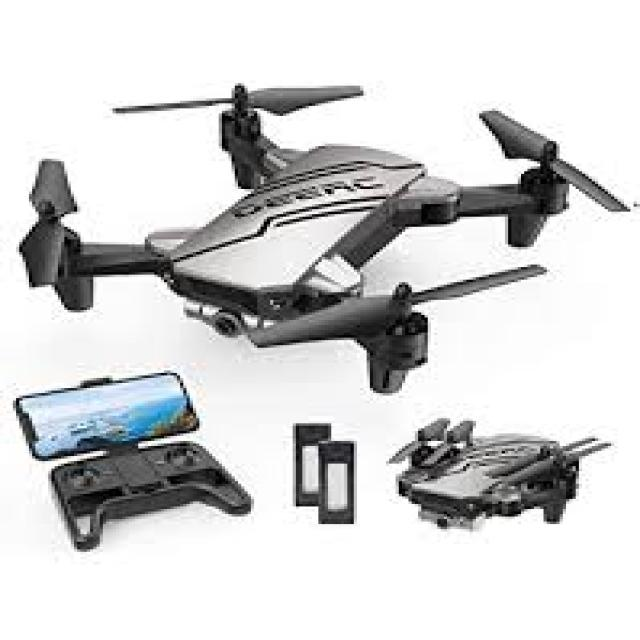drone: (0, 71, 640, 397)
